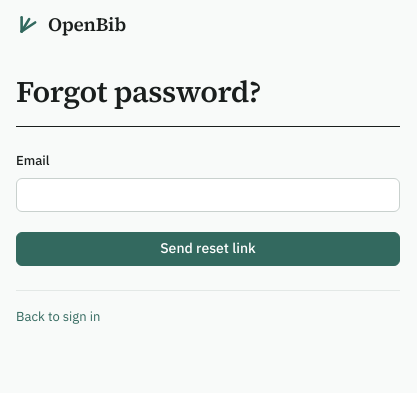
Test: account lifecycle pages › announces a failed reset request
This screenshot has width=417, height=393.
Type "reader@example.com" into the field labelled "Email" at (208, 195), box [16, 178, 400, 212]
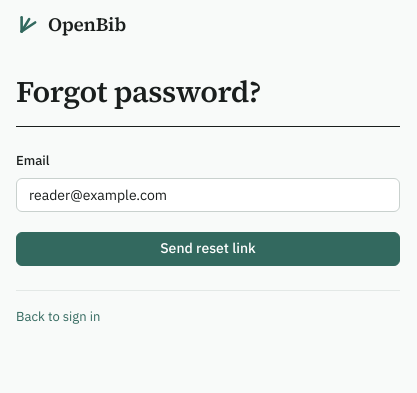
Submit the form labelled "Email", box [16, 151, 400, 266]
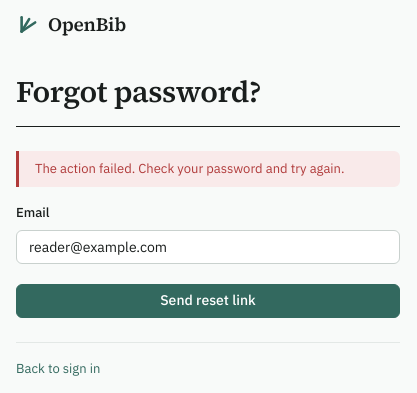
Expected: the message "The action failed. Check your password and try again." is shown, [16, 151, 400, 187]
